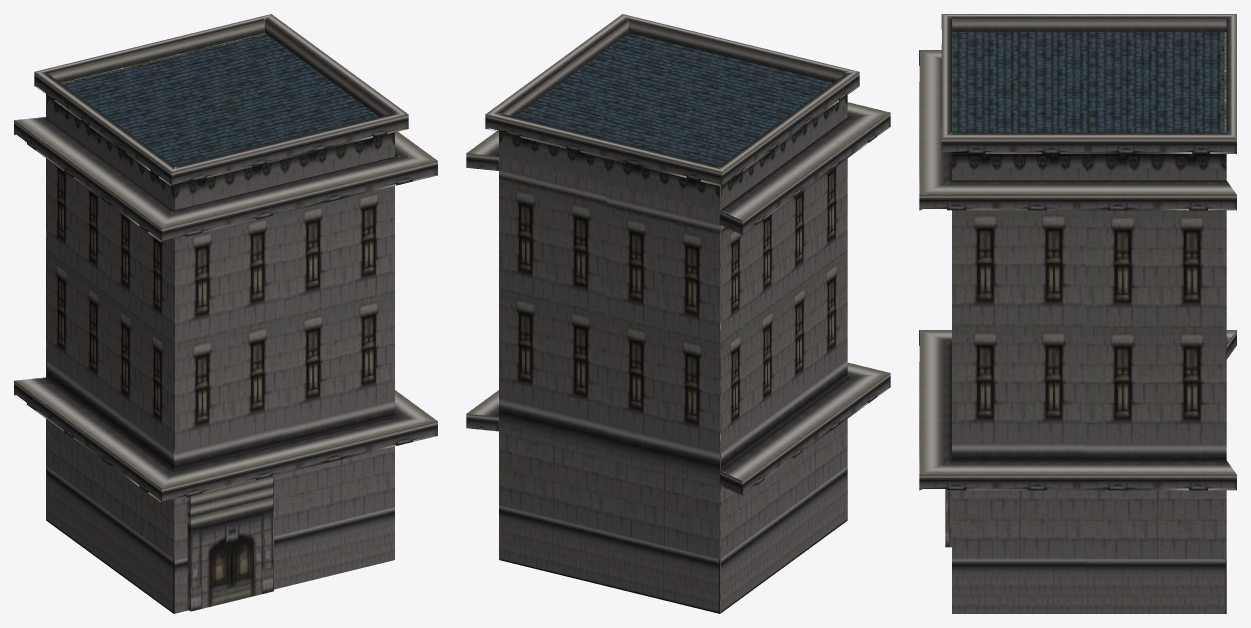
The model's file is building01.fbx.
3 renders of one model, left to right at view 1: azimuth 30°, elevation 25°; view 2: azimuth 150°, elevation 25°; view 3: azimuth 270°, elevation 25°, orthographic. The views are drawn at different scales.
Visible parts, largest first — view 1: Border.008; view 2: Border.008; view 3: Border.008.
Boxes of the visible parts, bbox=[...] form: Border.008: bbox=[14, 14, 437, 613]; Border.008: bbox=[466, 14, 890, 613]; Border.008: bbox=[919, 14, 1236, 613].
Bounding box in the file's own units: 1998 × 3088 × 1853.
4 materials, 4 textured.
